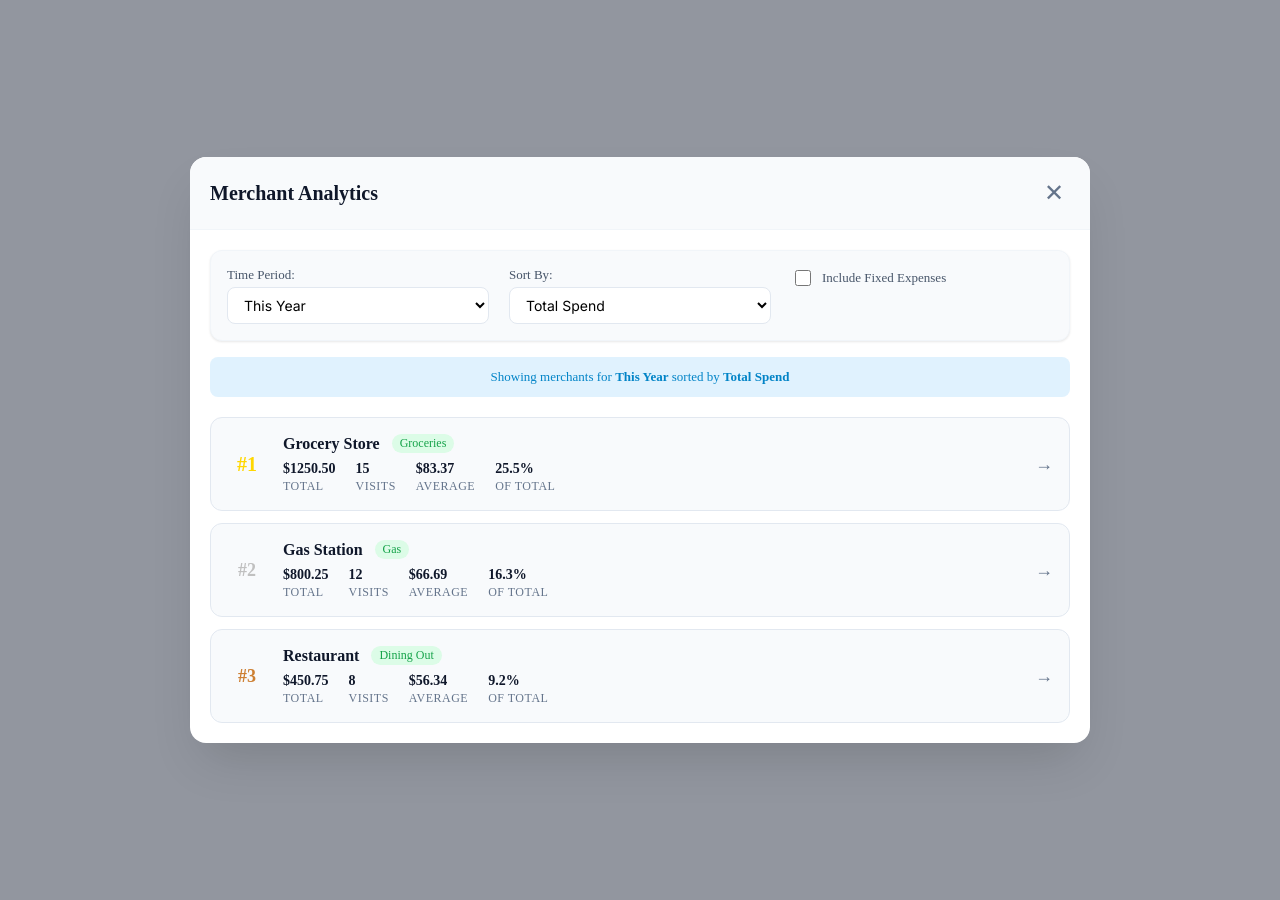
MerchantAnalyticsModal › Period Filter Changes › changes period filter and refetches data
Expected: the text "Grocery Store" is shown, [283,434,380,452]
# Find and change the period filter
Select "This Month" in the dropdown below "Time Period:" at (358, 306), box [227,287,489,324]
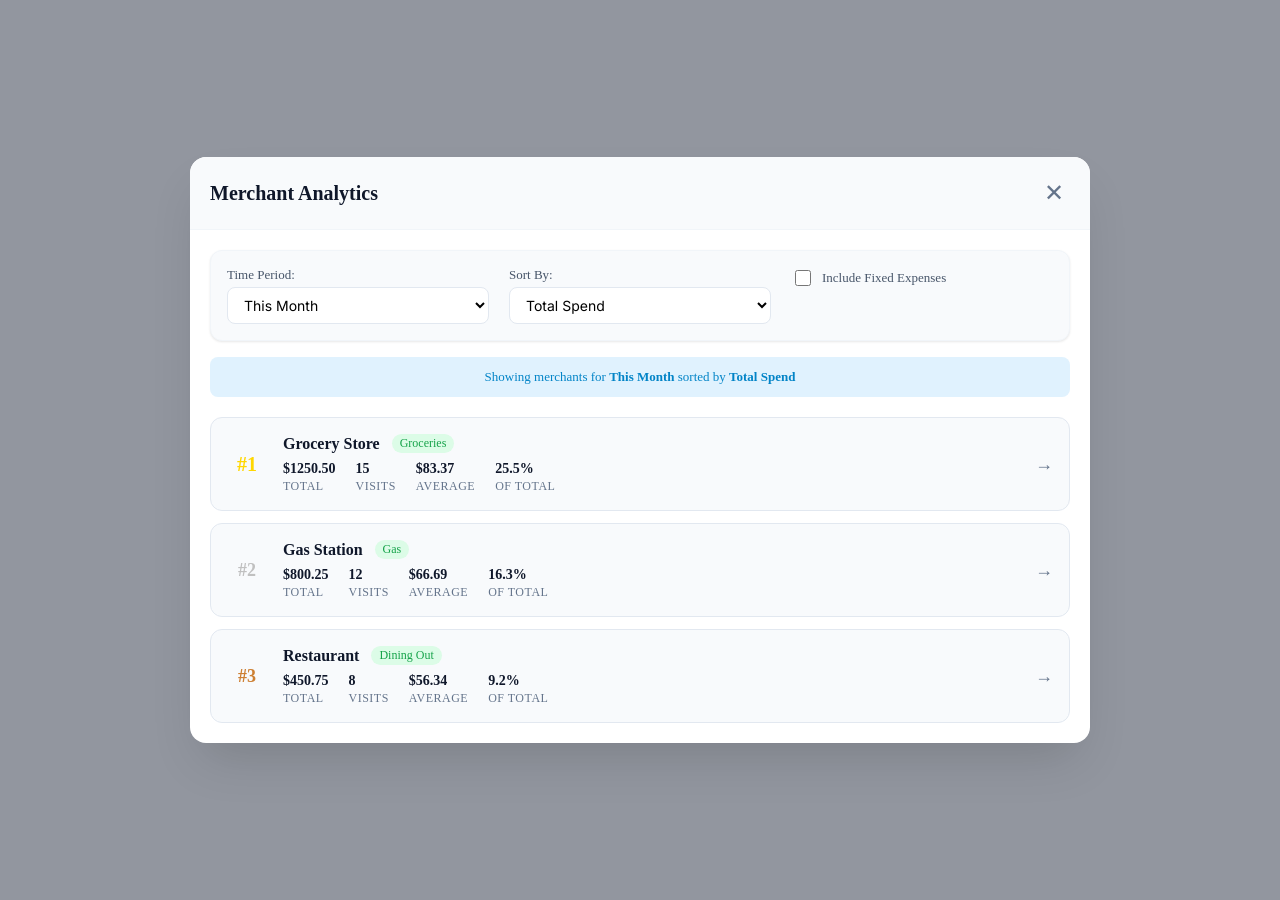
Result: the element with class "merchant-analytics-current-filters" shows "This Month" at [609,369,674,384]
